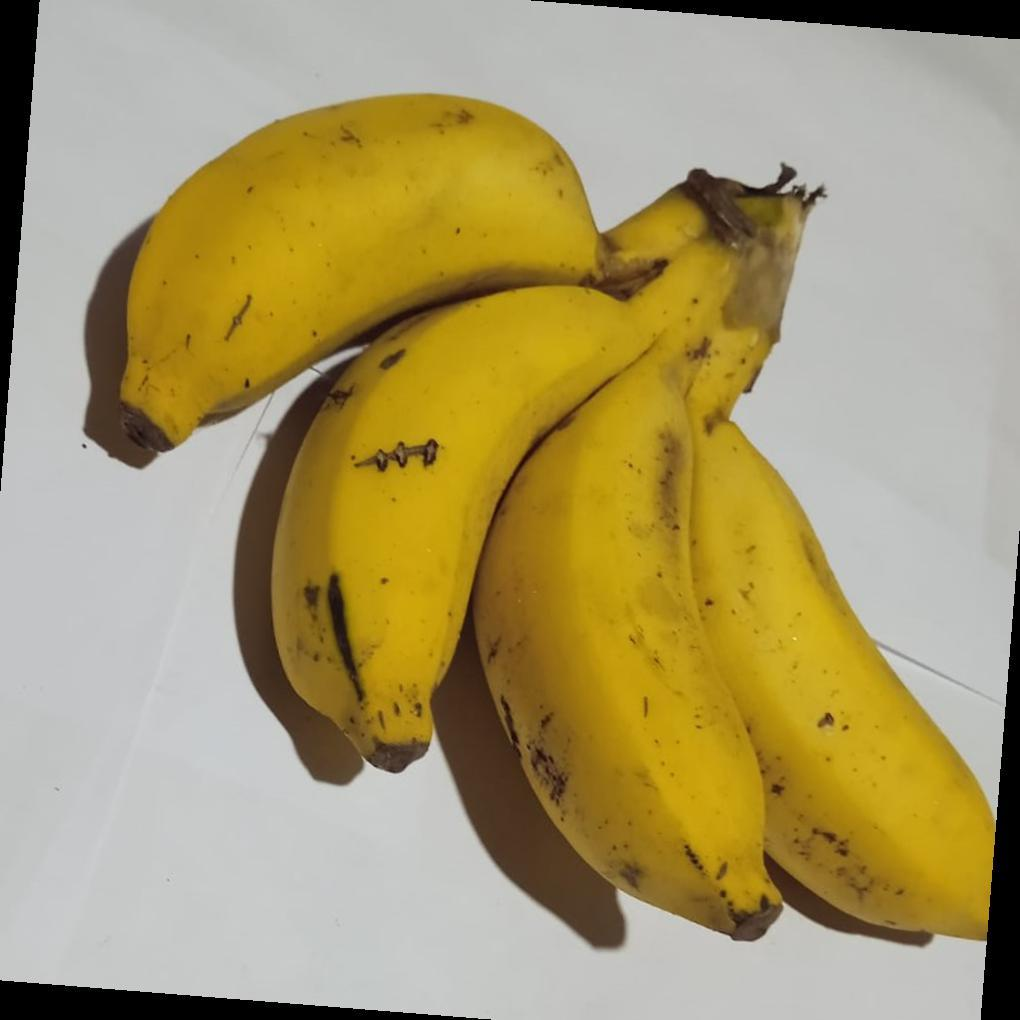Banana Ripe: (139, 106, 1020, 994), (86, 66, 653, 450), (266, 266, 645, 833), (682, 361, 1002, 1000), (469, 316, 783, 963)
